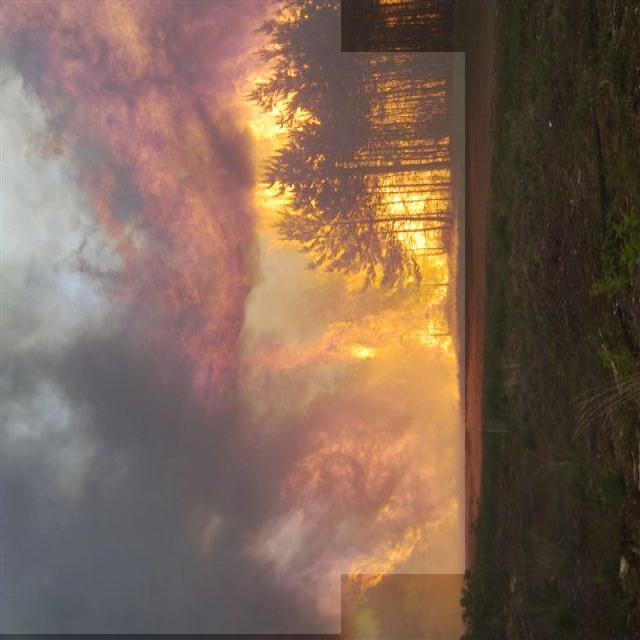Fire: (245, 52, 465, 574)
Smoke: (0, 0, 341, 634)
